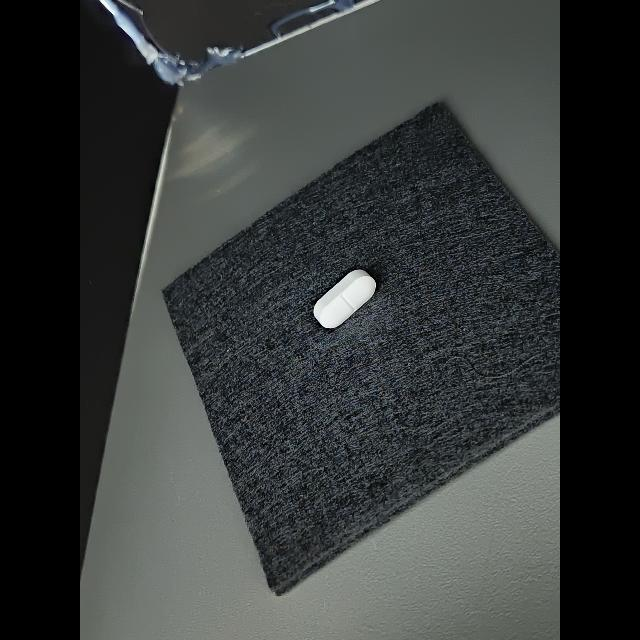Intact Pill: (314, 270, 376, 328)
